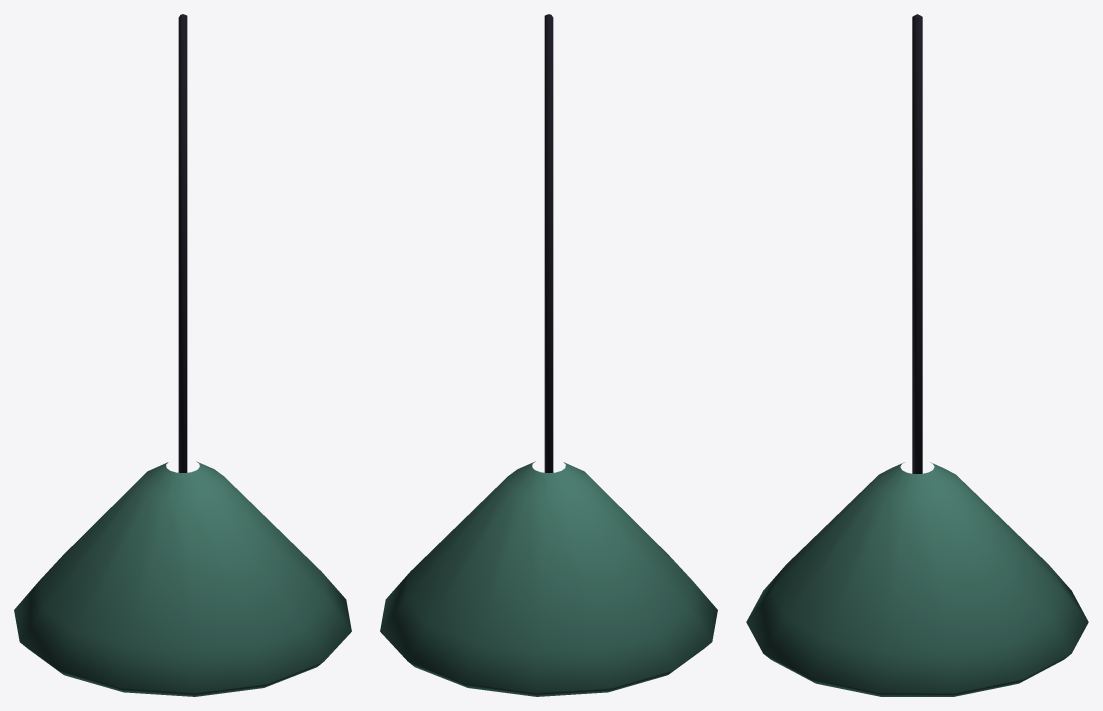
File: pendant_lamp.glb
The picture shows the model from 3 angles, left to right: view 1: azimuth 30°, elevation 25°; view 2: azimuth 150°, elevation 25°; view 3: azimuth 270°, elevation 25°; orthographic projection.
Visible parts, largest first — view 1: pendant_lamp; view 2: pendant_lamp; view 3: pendant_lamp.
Part boxes in pixels (box(x1,y1,x2,y2)): pendant_lamp: box(14, 14, 351, 696); pendant_lamp: box(380, 14, 717, 696); pendant_lamp: box(746, 14, 1088, 696).
Size of the model in its own units: 0.39 by 0.8036 by 0.4.
